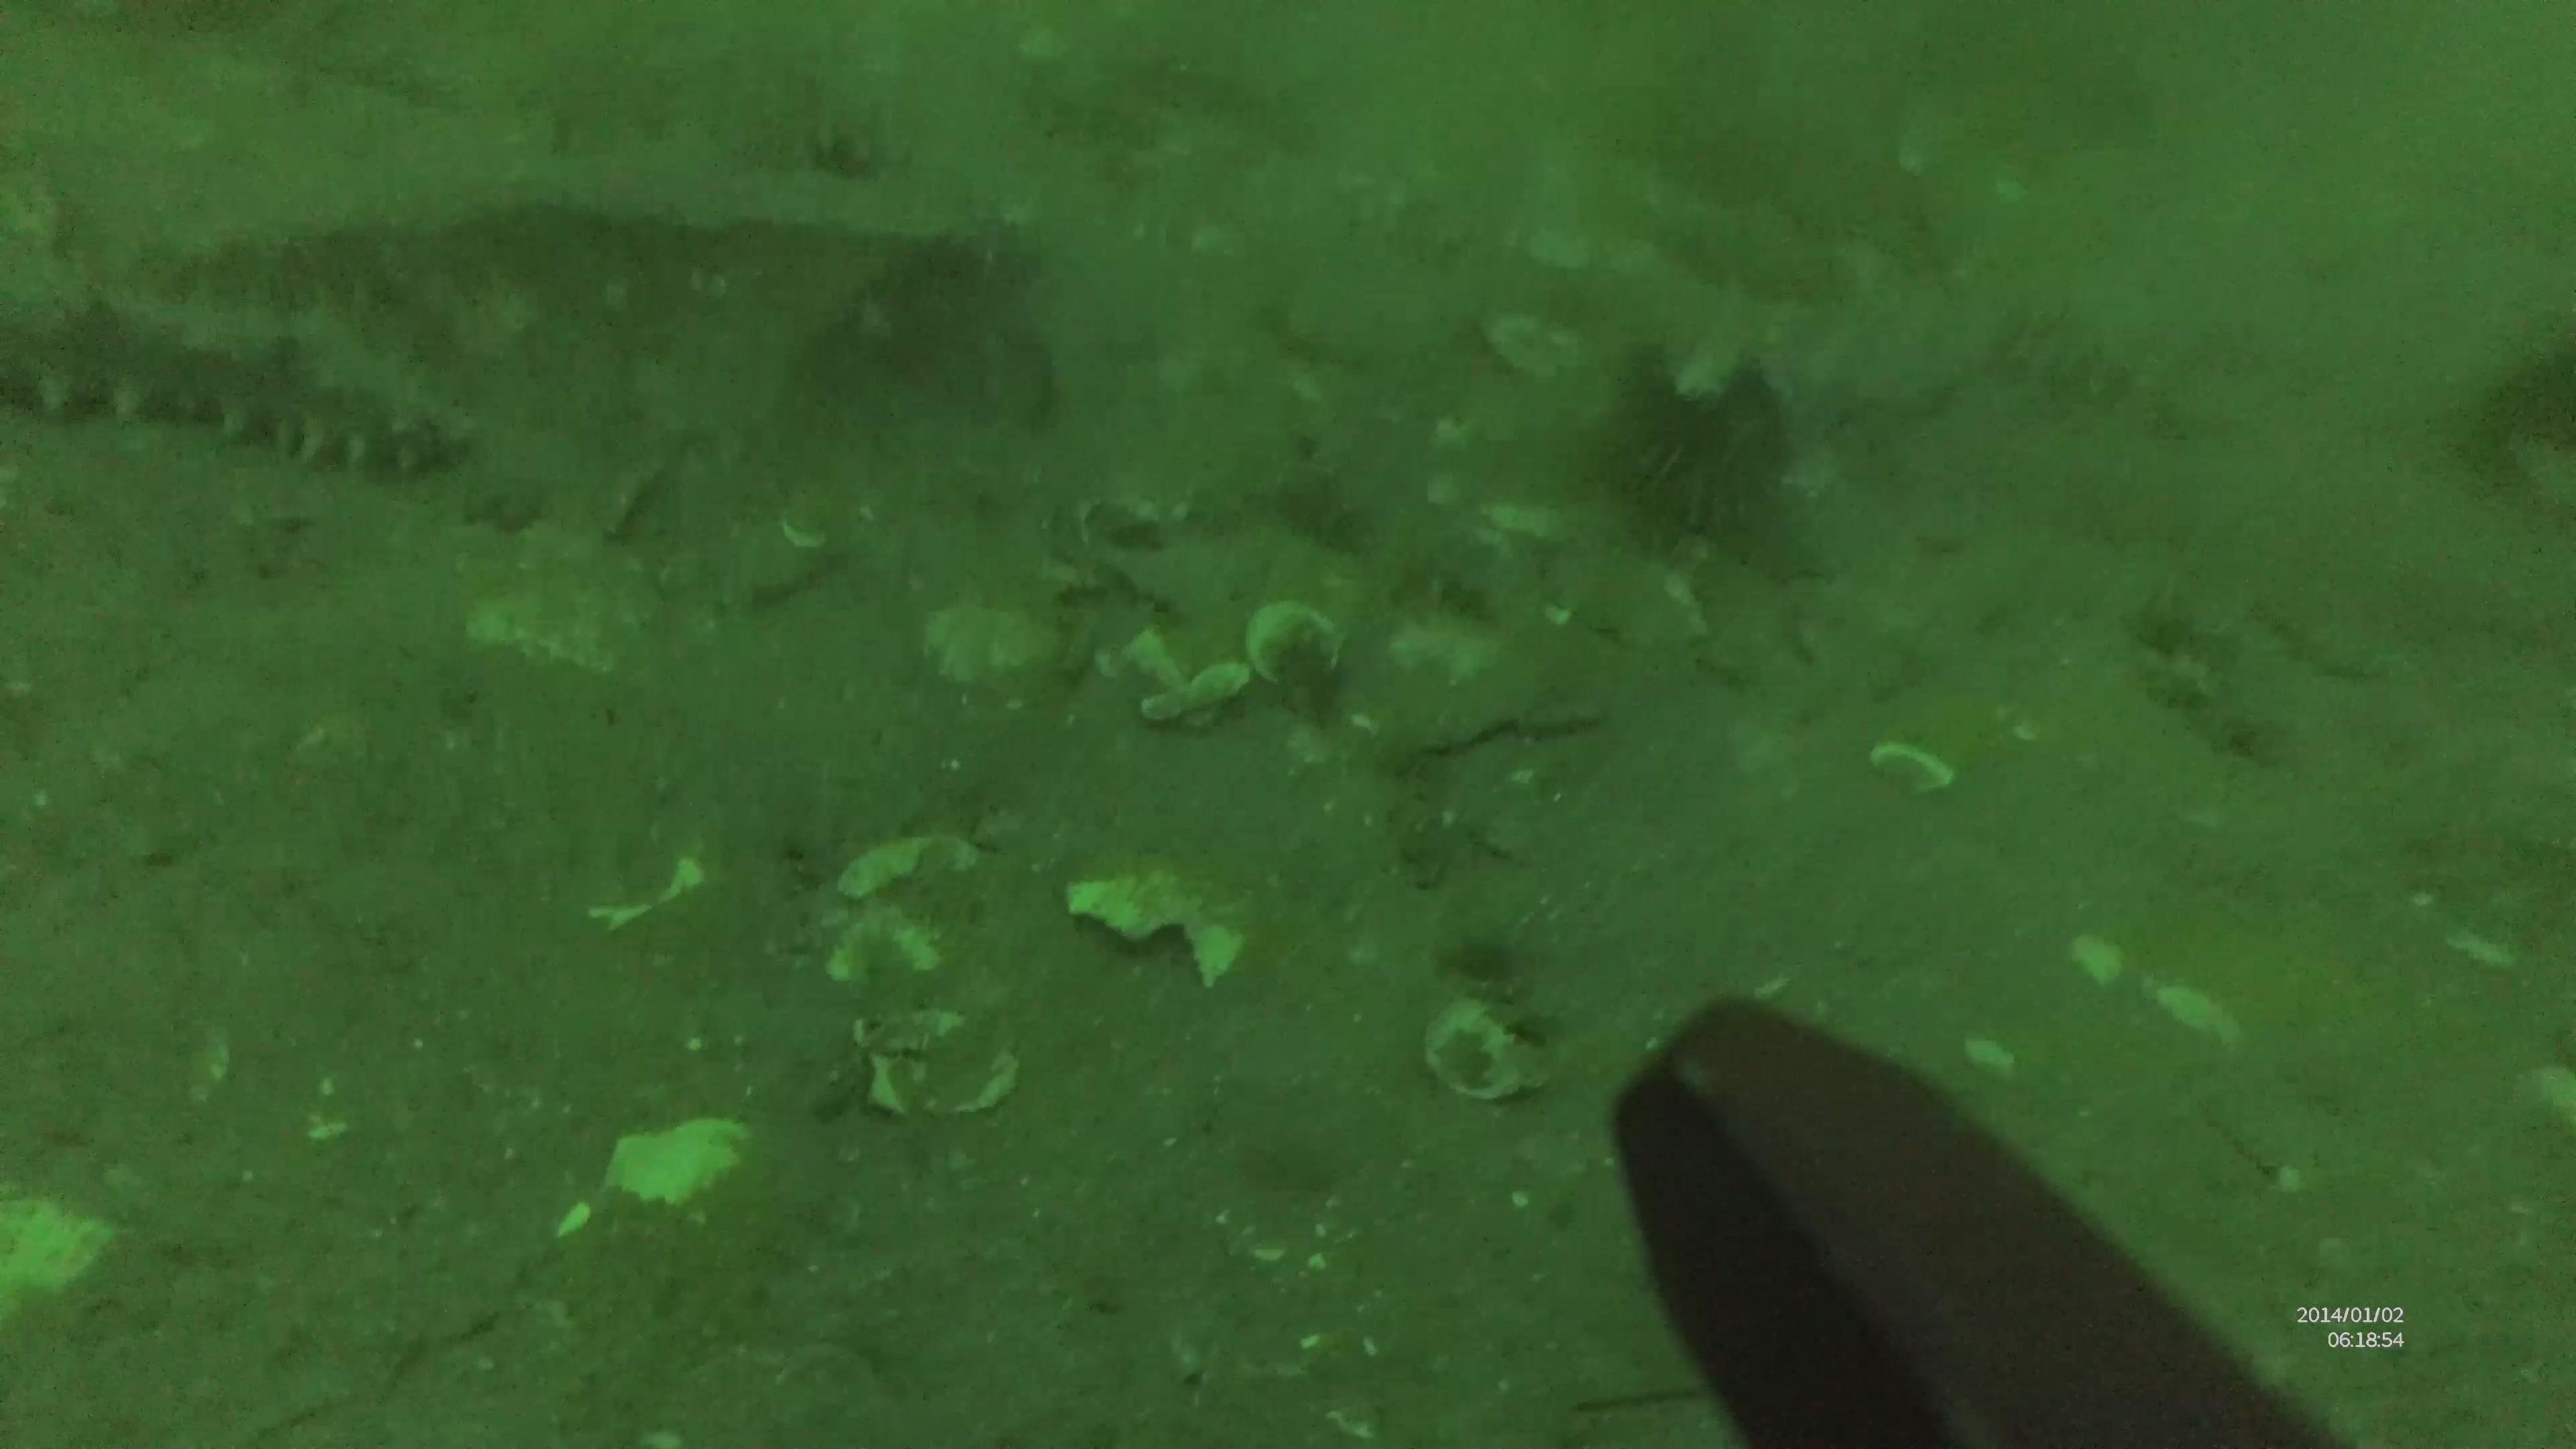echinus: (1594, 345, 1785, 508)
holothurian: (0, 310, 467, 490)
